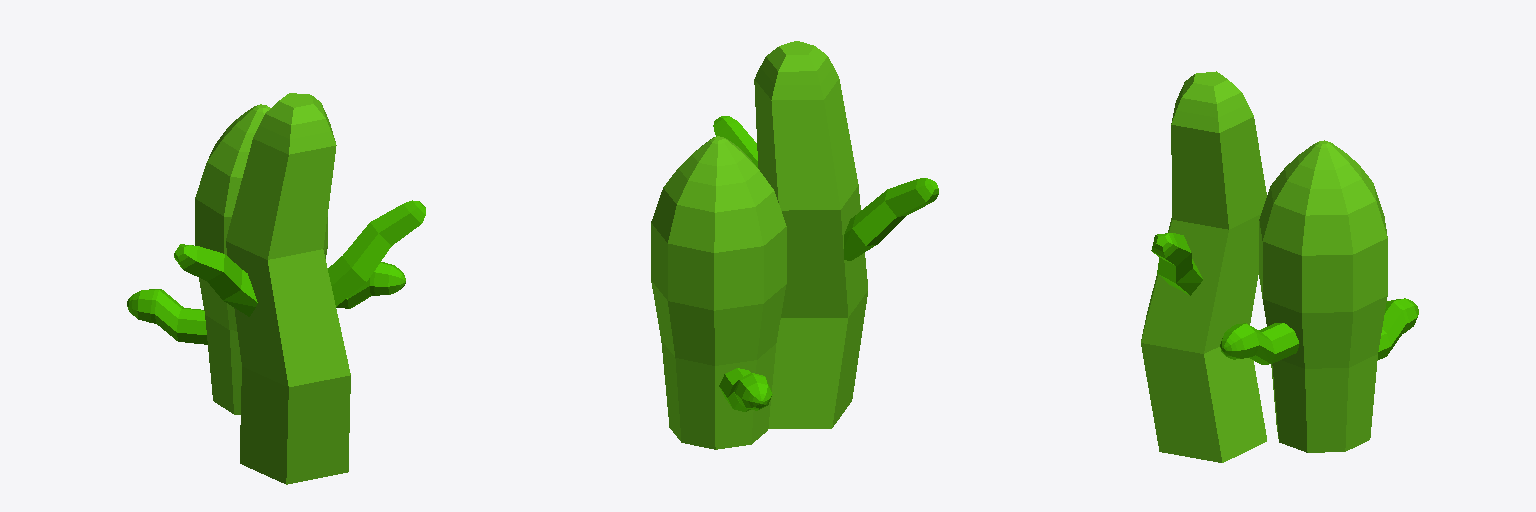
File: Captus.obj
3 renders of one model, left to right at view 1: azimuth 30°, elevation 25°; view 2: azimuth 150°, elevation 25°; view 3: azimuth 270°, elevation 25°, orthographic.
Parts seen in each view (by area): view 1: Cylinder.001; view 2: Cylinder.001; view 3: Cylinder.001.
Part boxes in pixels (x1,y1,x2,y2): Cylinder.001: (127,93,425,484); Cylinder.001: (651,41,938,449); Cylinder.001: (1141,71,1418,462).
Size of the model in its own units: 2.18 by 3.02 by 2.11.